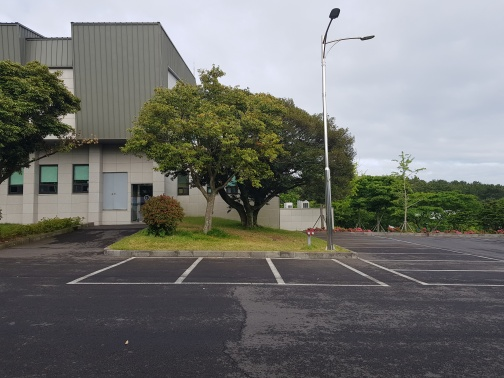Gym: (25, 29, 336, 240), (1, 145, 217, 246)
